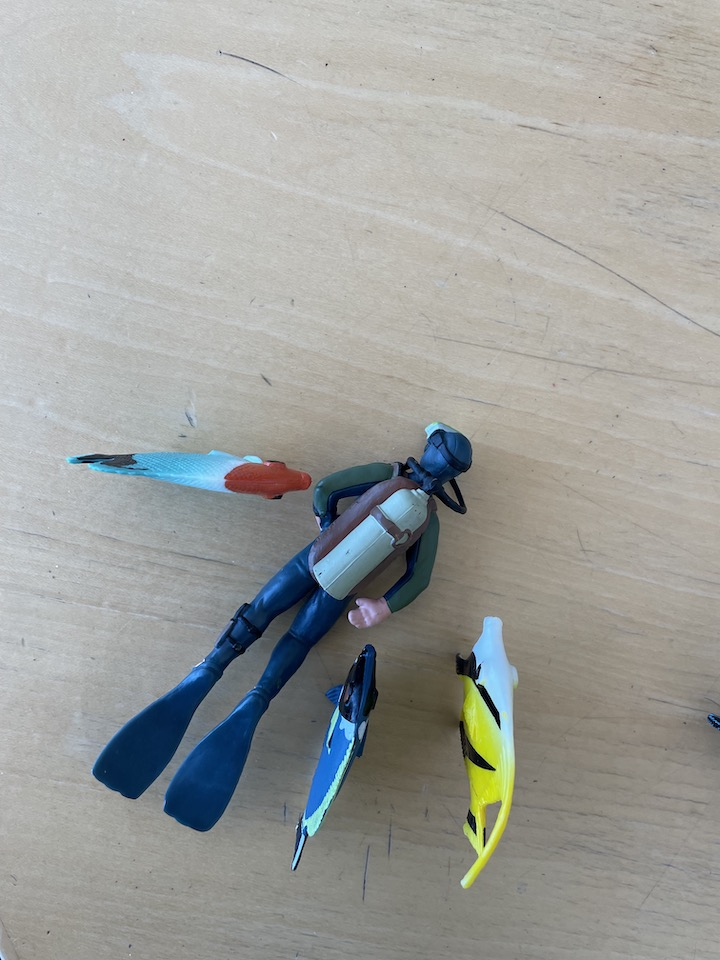danger: (453, 614, 523, 898)
diver: (91, 419, 475, 837)
fish: (286, 642, 387, 875), (61, 445, 314, 500)
